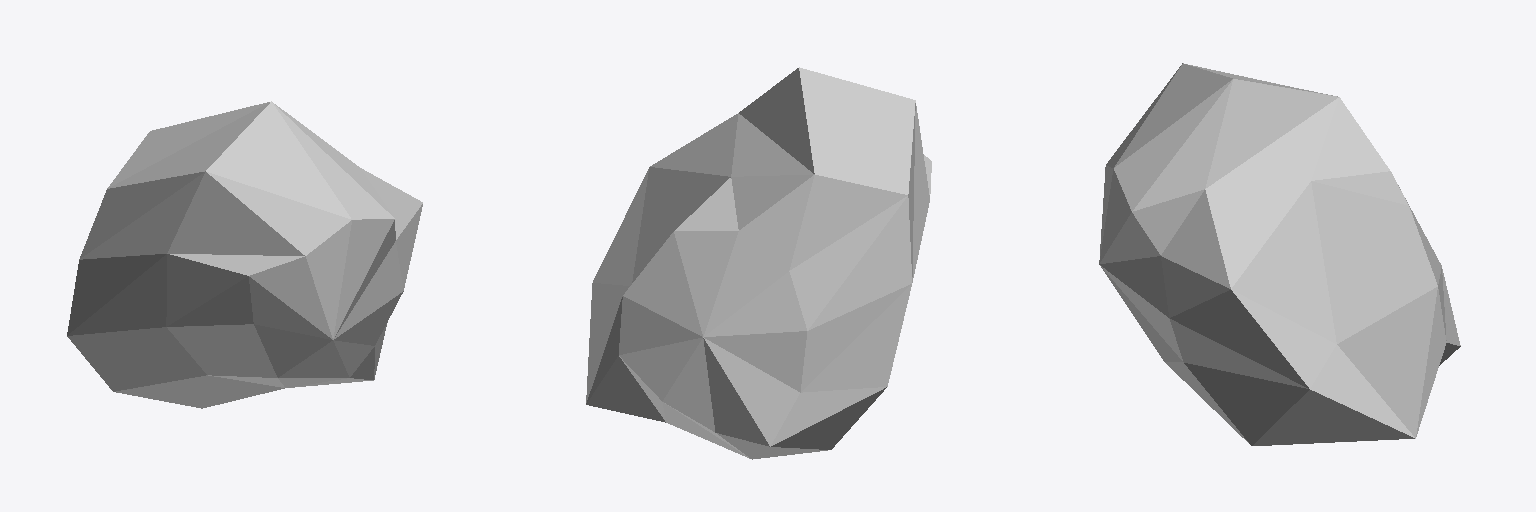
File: asteroid1.obj
3 renders of one model, left to right at view 1: azimuth 30°, elevation 25°; view 2: azimuth 150°, elevation 25°; view 3: azimuth 270°, elevation 25°, orthographic.
Visible parts, largest first — view 1: Sphere001.003; view 2: Sphere001.003; view 3: Sphere001.003.
Part boxes in pixels (bbox=[...]): Sphere001.003: bbox=[67, 101, 422, 408]; Sphere001.003: bbox=[586, 67, 931, 459]; Sphere001.003: bbox=[1099, 63, 1460, 445].
Size of the model in its own units: 0.484 by 0.4998 by 0.4718.